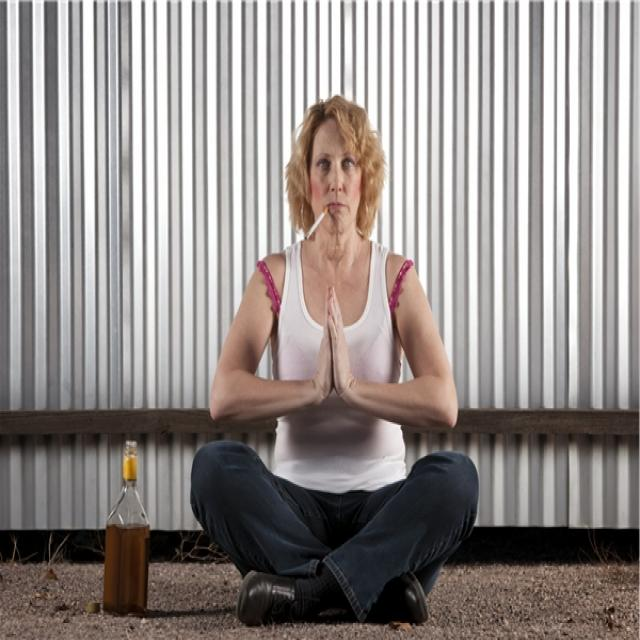smoking: (304, 205, 330, 241)
